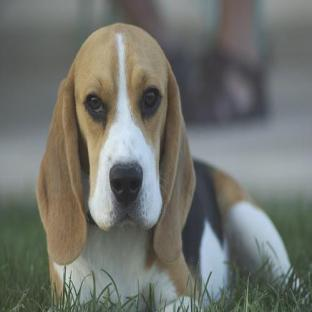Animal: (37, 24, 290, 310)
